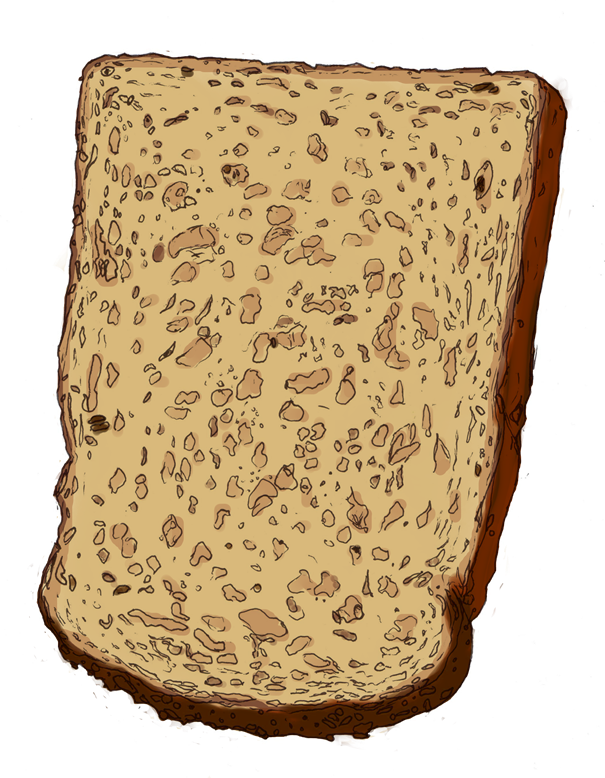slice of bread: (59, 19, 489, 776)
